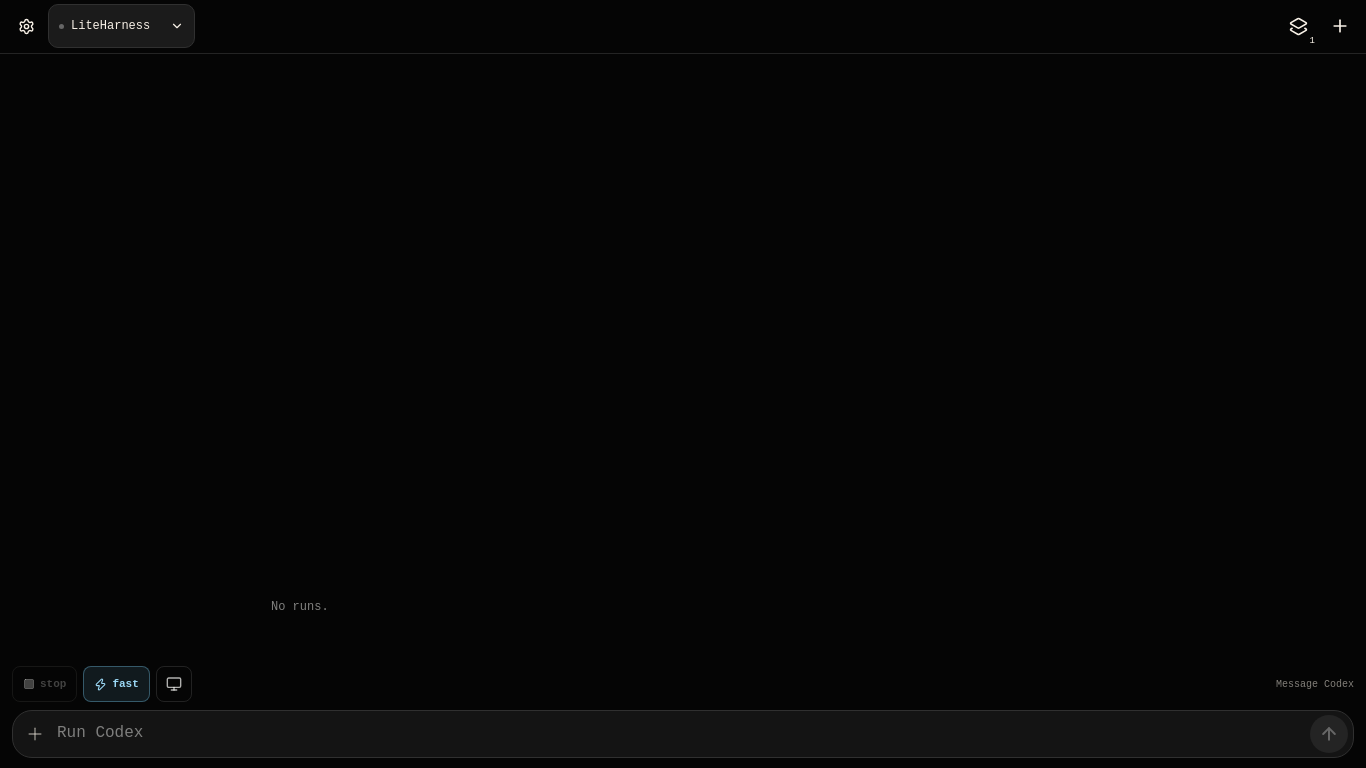
Test: MobileShell › keeps the working counter when an optimistic new run is committed
The width and height of the screenshot is (1366, 768).
Type "Start timed run" into the text box named "Prompt". click: [683, 734]
box: [13,711,1353,757]
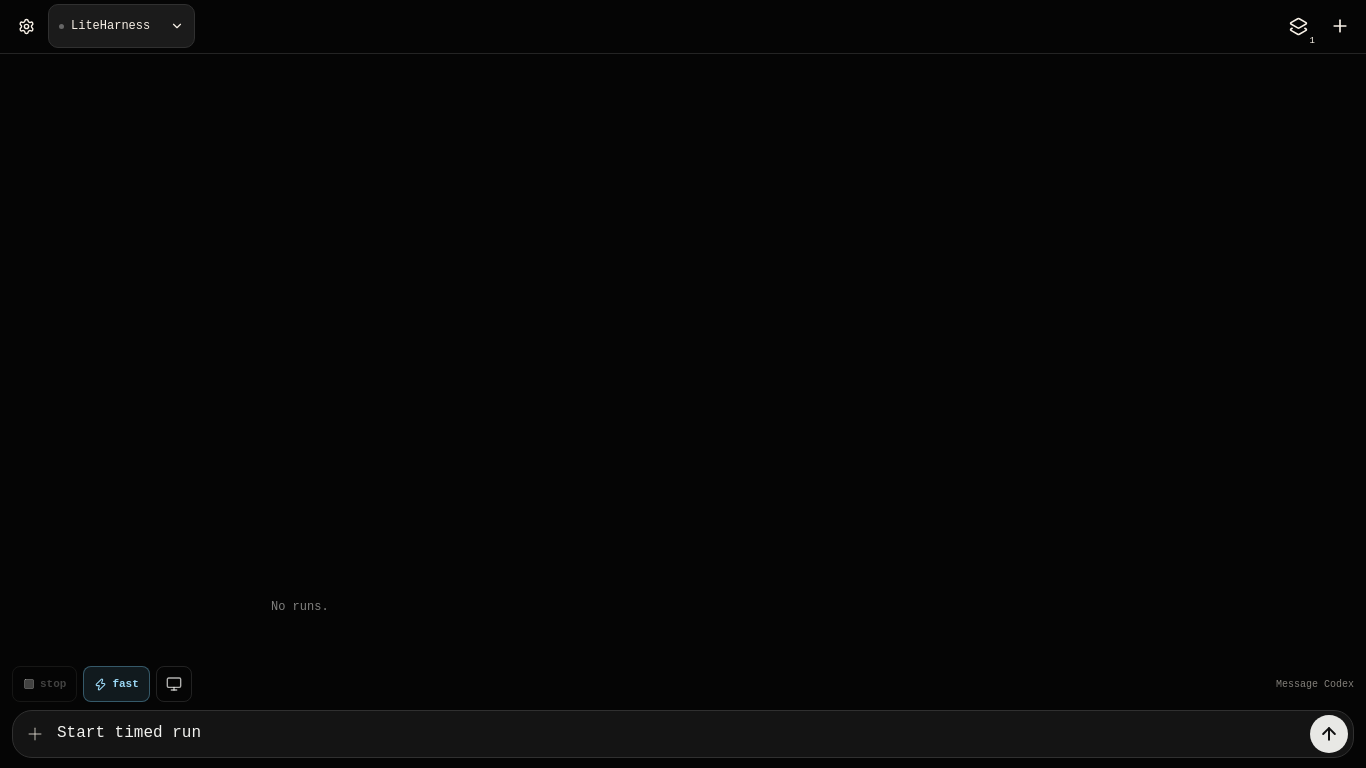
Click the button named "Run". click: [1329, 734]
box: [1310,715,1348,753]
Wait 3000 ms
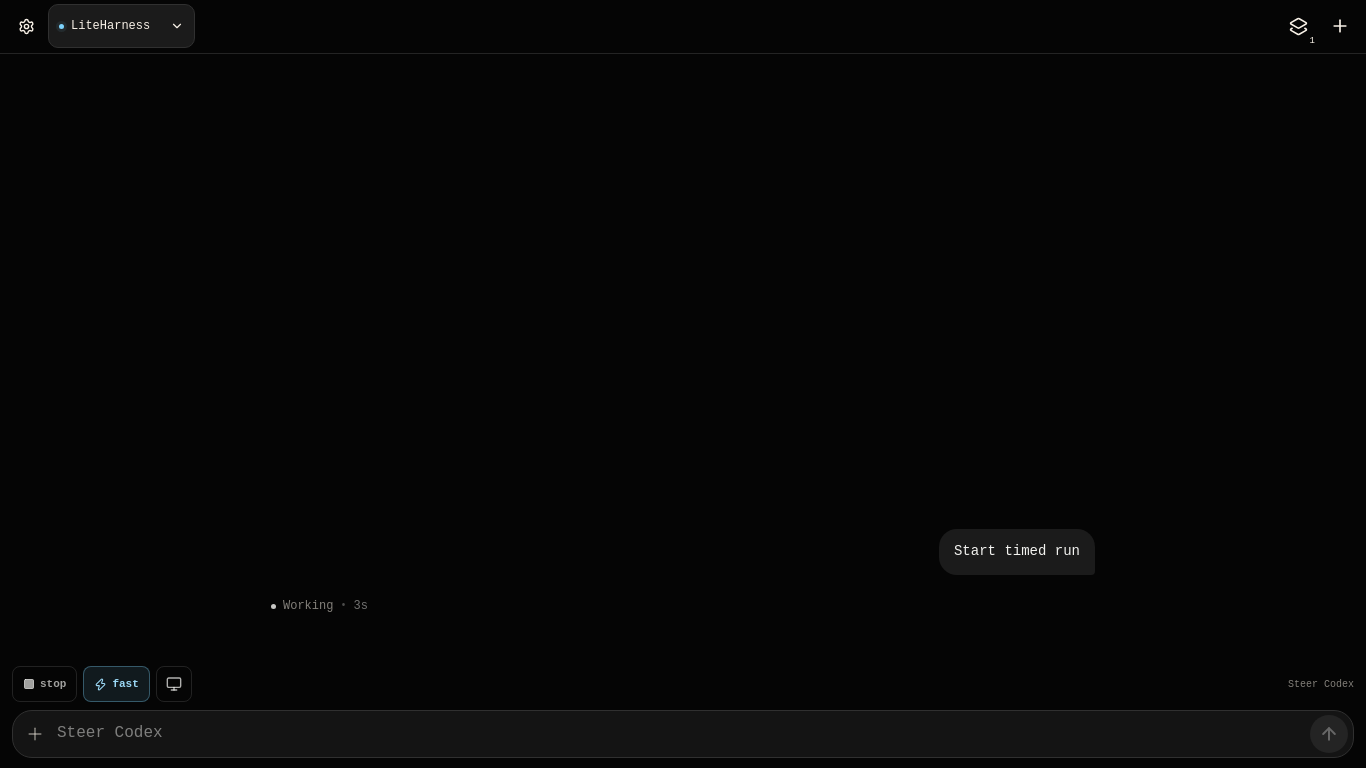
Expected: the text "3s" is shown, [353,600,368,612]
